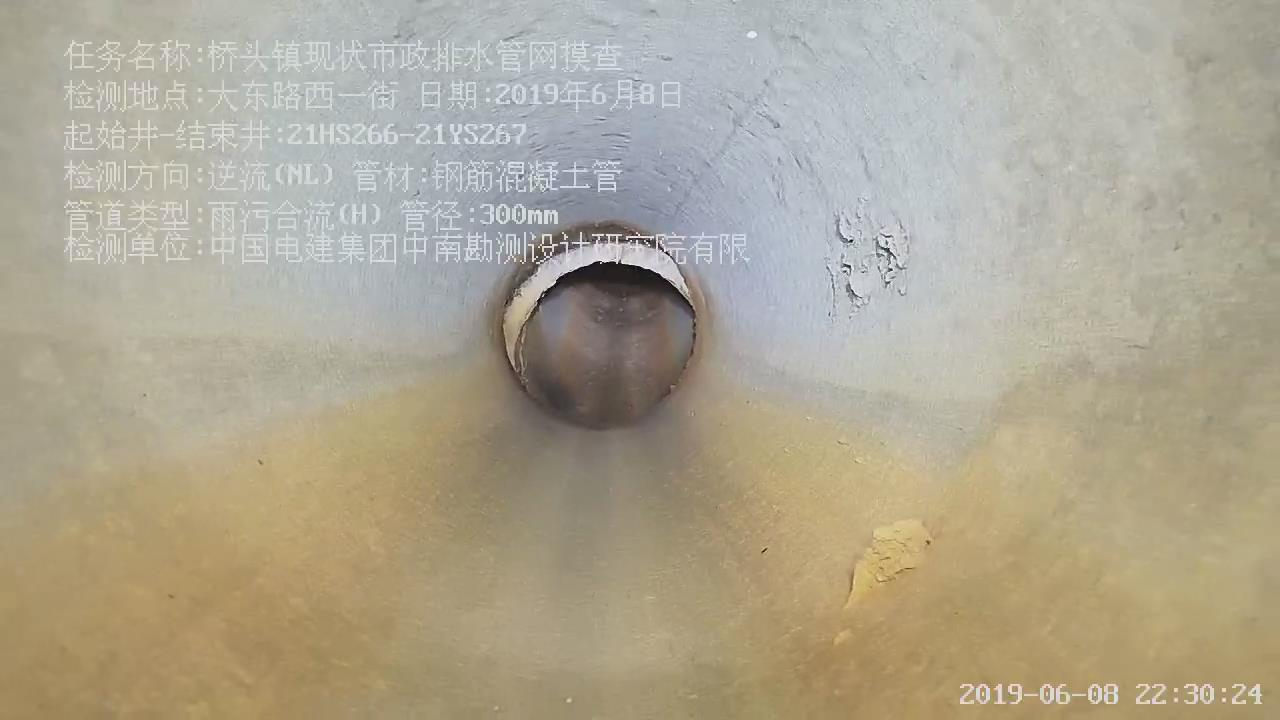CKTJ: (498, 223, 697, 373)
